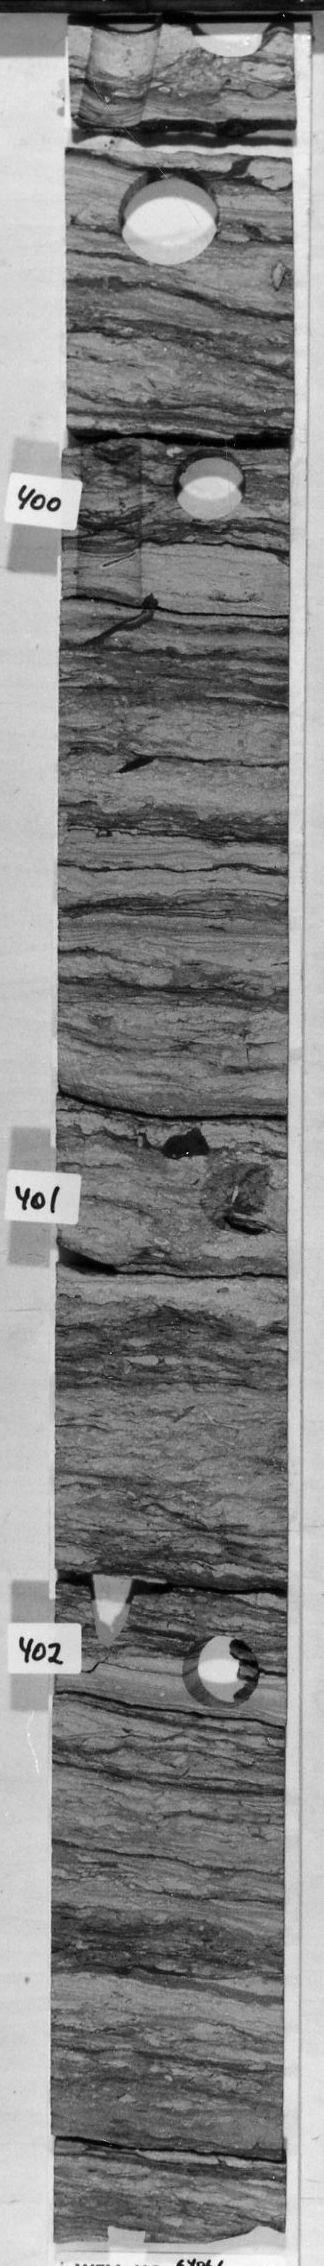hplug: (171, 1629, 266, 1714), (169, 451, 253, 526), (189, 20, 285, 59)
scal: (108, 168, 227, 270)
vplug: (69, 434, 152, 611), (75, 22, 161, 129), (80, 1564, 146, 1656)
